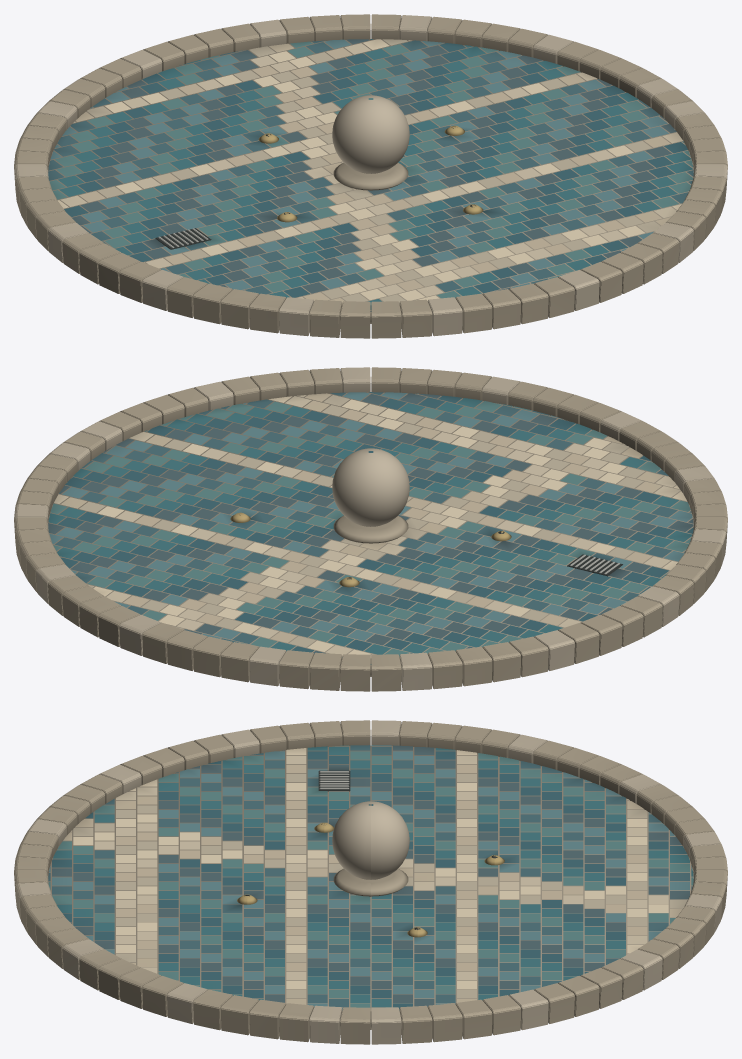
File: civic-mosaic-basin.glb
3 views of the same model, one above another, from view 1: azimuth 30°, elevation 25°; view 2: azimuth 150°, elevation 25°; view 3: azimuth 270°, elevation 25° (orthographic).
Parts seen in each view (by area): view 1: Frame; view 2: Frame; view 3: Frame.
Part boxes in pixels (x1=…): Frame: x1=14, y1=14, x2=727, y2=338; Frame: x1=14, y1=367, x2=727, y2=691; Frame: x1=14, y1=720, x2=727, y2=1044.
Size of the model in its own units: 7.24 by 0.999 by 7.24.
